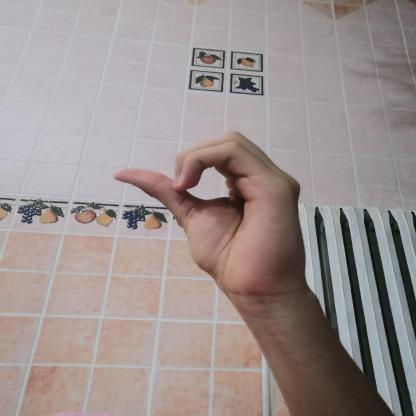WAW: (94, 122, 337, 310)
